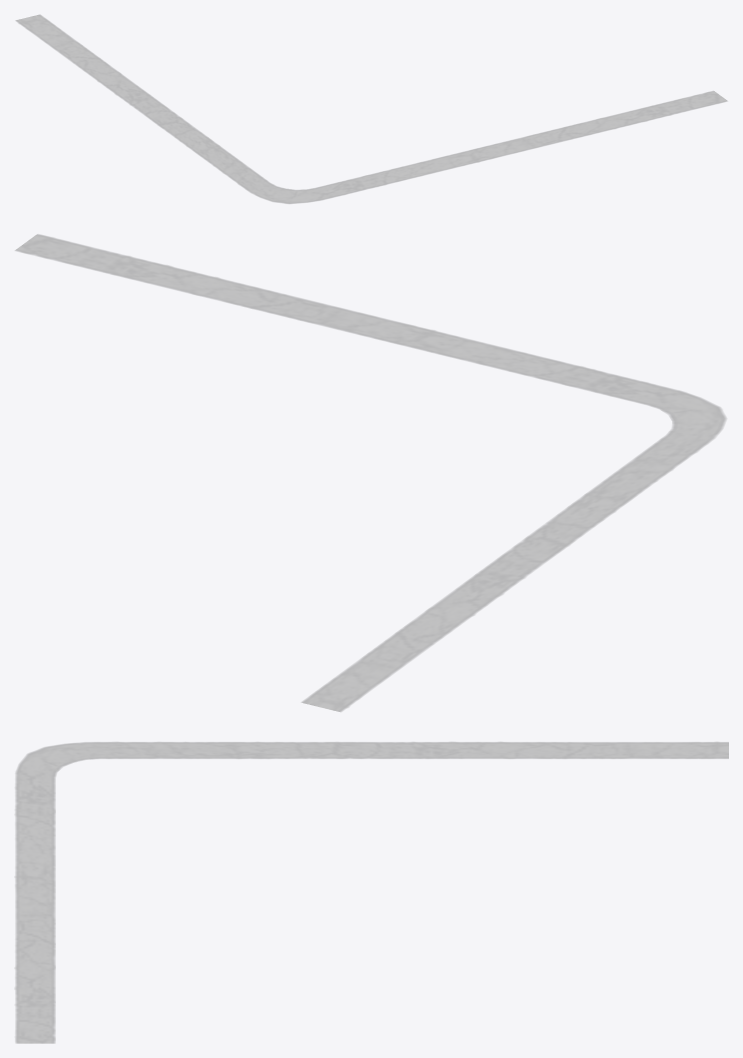
File: sidewalk_corner_flat_3m_stripe.glb
The picture shows the model from 3 angles, top to bottom: view 1: azimuth 30°, elevation 25°; view 2: azimuth 150°, elevation 25°; view 3: azimuth 270°, elevation 25°; orthographic projection. The views are drawn at different scales.
Visible parts, largest first — view 1: Sidewalk_Corner_Flat_3m_Stripe; view 2: Sidewalk_Corner_Flat_3m_Stripe; view 3: Sidewalk_Corner_Flat_3m_Stripe.
Boxes of the visible parts, bbox=[...] form: Sidewalk_Corner_Flat_3m_Stripe: bbox=[16, 14, 726, 203]; Sidewalk_Corner_Flat_3m_Stripe: bbox=[15, 234, 726, 711]; Sidewalk_Corner_Flat_3m_Stripe: bbox=[15, 742, 728, 1043].
Bounding box in the file's own units: 3.4 × 0 × 3.4.
Materials: 1 (1 with a texture image).
